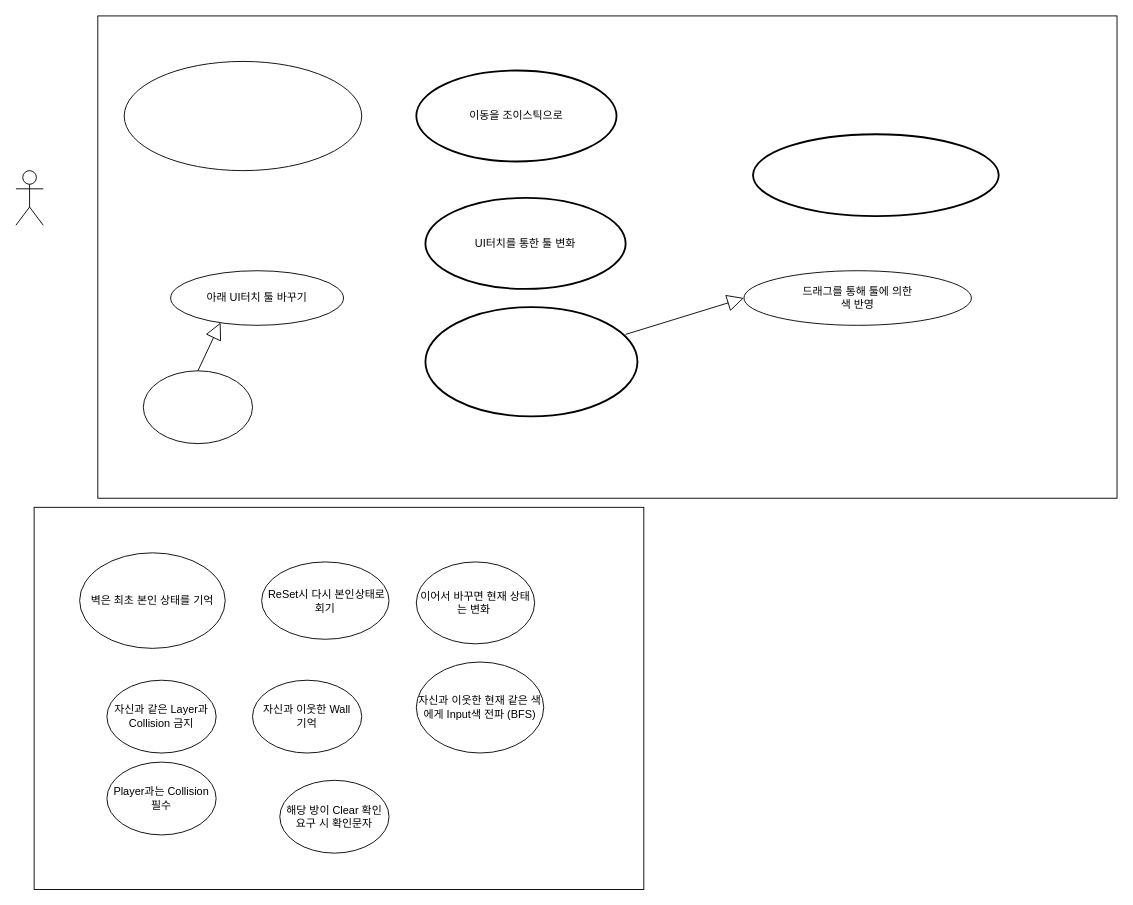
Some shapes in this 1133 by 905 pixel diagram are drawn without their labels. The centre of each missing label's shape, as x and y in pixels:
"Actor" belongs at [29,197].
"스토리 UI Main에서 스토리 보기 Guide에서 플레이 방법 보기 Option에서 다시하기 등" belongs at [242,116].
"터치시에는 Tool을 얻기" belongs at [875,175].
"툴 얻기" belongs at [197,407].
"화면의 중앙을 터치하여 드래그를 통해 변화" belongs at [531,361].
